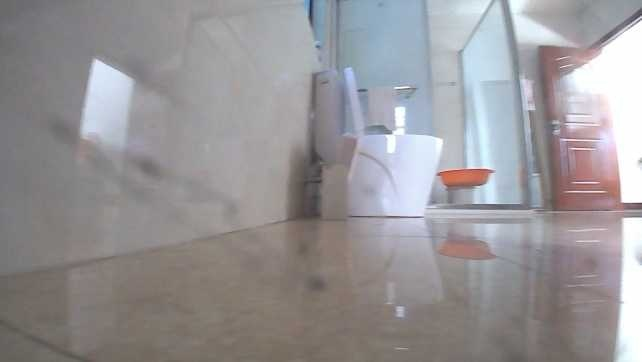door_anno: (540, 41, 625, 211)
toilet: (310, 64, 443, 219)
